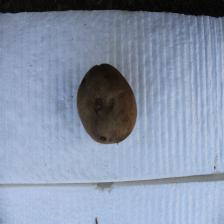Diseased-fungal potato: (76, 62, 138, 146)
